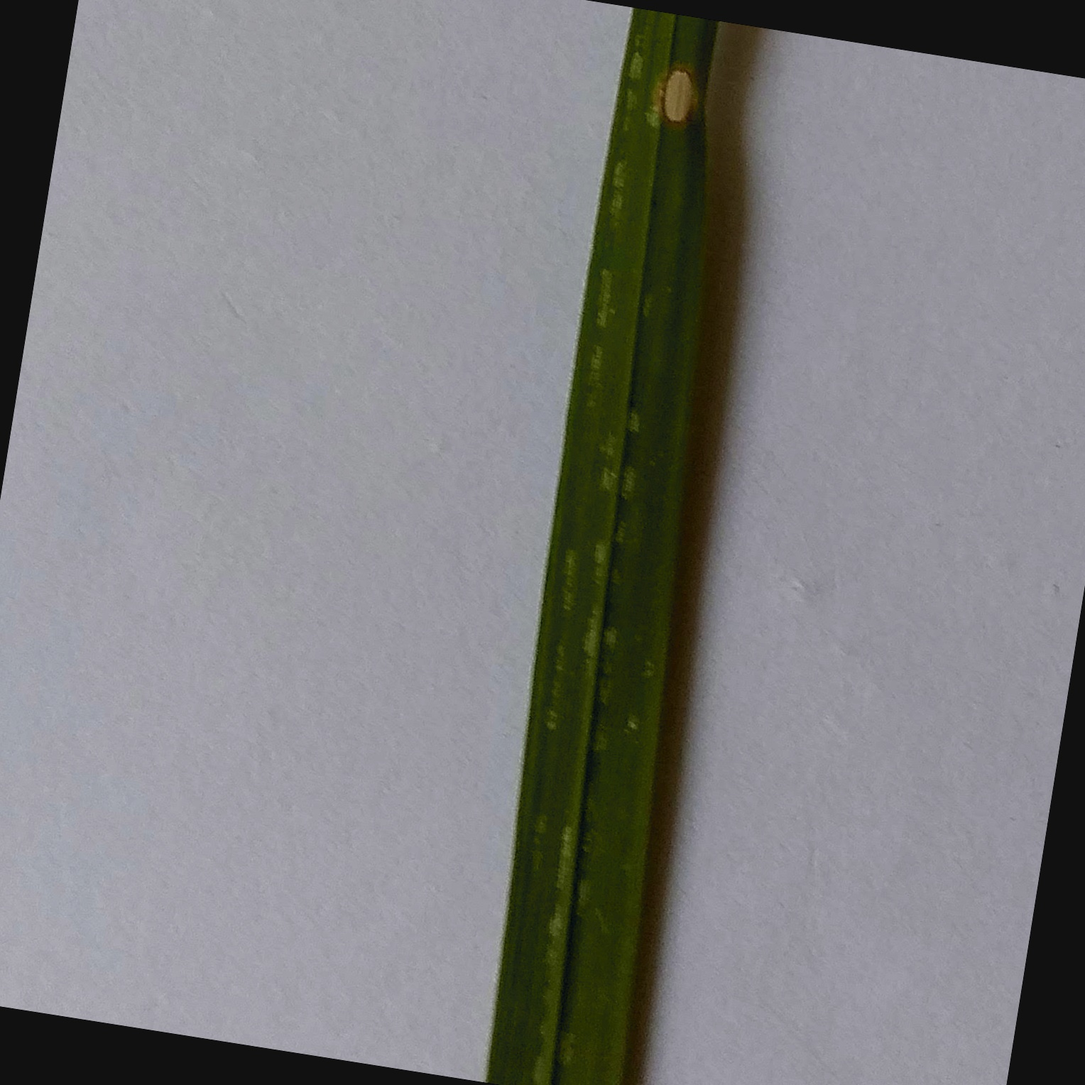Brown_Spot: (651, 55, 710, 132)
